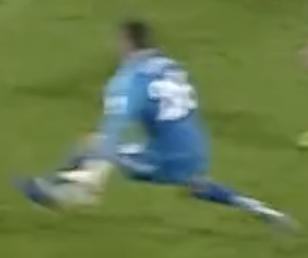goalkeeper: (19, 12, 305, 258)
